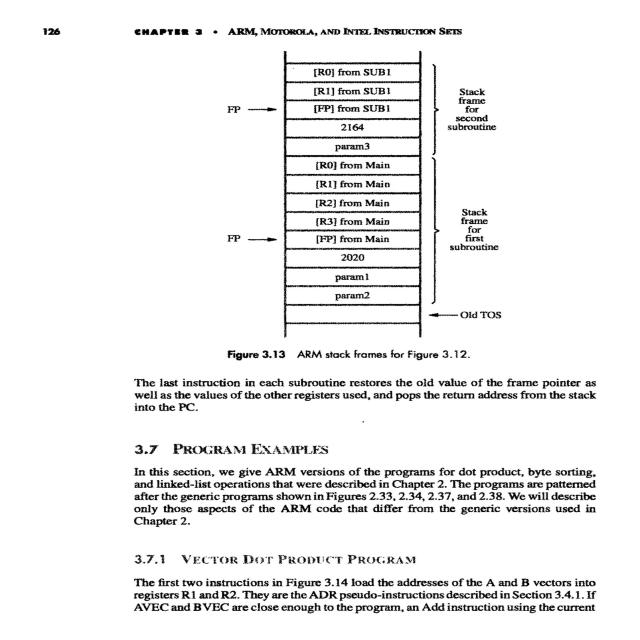diagram: (180, 43, 536, 369)
